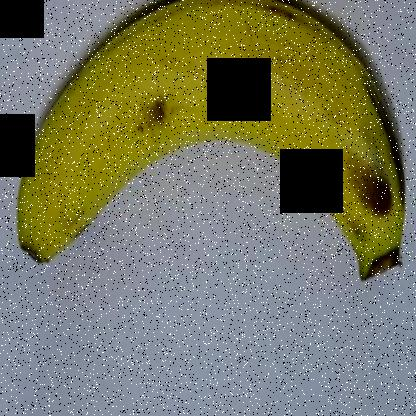freshripe: (2, 1, 415, 312)
